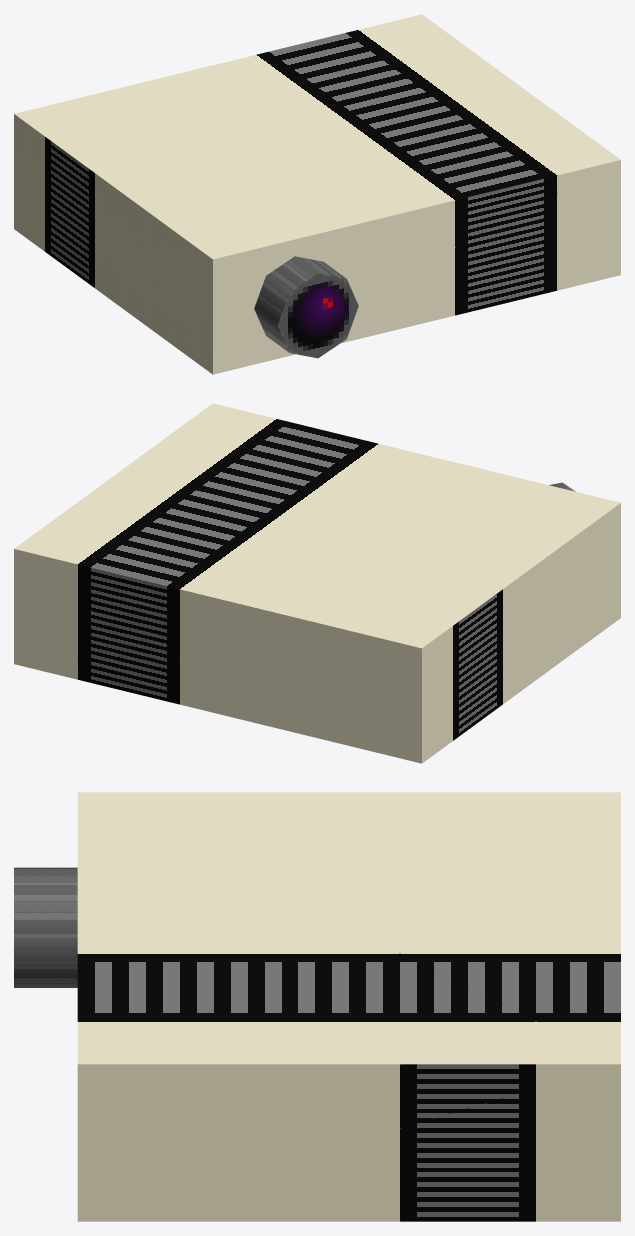
The model's file is Projector.fbx.
3 renders of one model, top to bottom at view 1: azimuth 30°, elevation 25°; view 2: azimuth 150°, elevation 25°; view 3: azimuth 270°, elevation 25°, orthographic. The views are drawn at different scales.
Parts seen in each view (by area): view 1: Box001, Cylinder001; view 2: Box001; view 3: Box001, Cylinder001.
Part boxes in pixels (left/top/right/bottom): Box001: left=14, top=14, right=620, bottom=374; Cylinder001: left=254, top=256, right=358, bottom=358; Box001: left=14, top=403, right=620, bottom=763; Box001: left=77, top=792, right=620, bottom=1221; Cylinder001: left=14, top=867, right=77, bottom=987.
Size of the model in its own units: 5.34 by 1.44 by 5.04.
